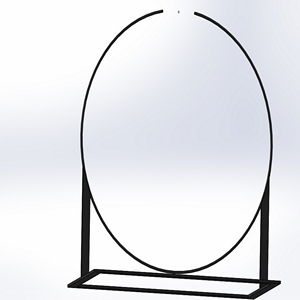circle: (66, 8, 280, 299)
